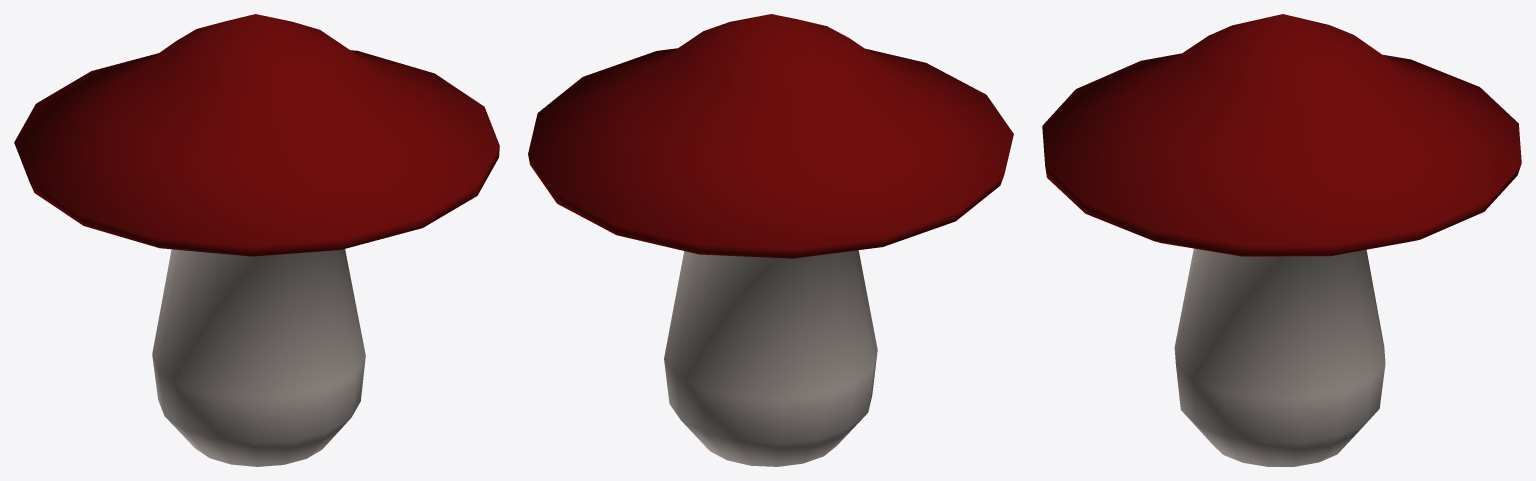
Rendered from mushroomsingle2.fbx.
3 views of the same model, side by side, from view 1: azimuth 30°, elevation 25°; view 2: azimuth 150°, elevation 25°; view 3: azimuth 270°, elevation 25° (orthographic).
Parts seen in each view (by area): view 1: SmallMushroom; view 2: SmallMushroom; view 3: SmallMushroom.
Part boxes in pixels (box(x1,y1,x2,y2)): SmallMushroom: box(14, 14, 499, 466); SmallMushroom: box(528, 14, 1013, 466); SmallMushroom: box(1042, 14, 1521, 466).
Size of the model in its own units: 144 by 141 by 144.
